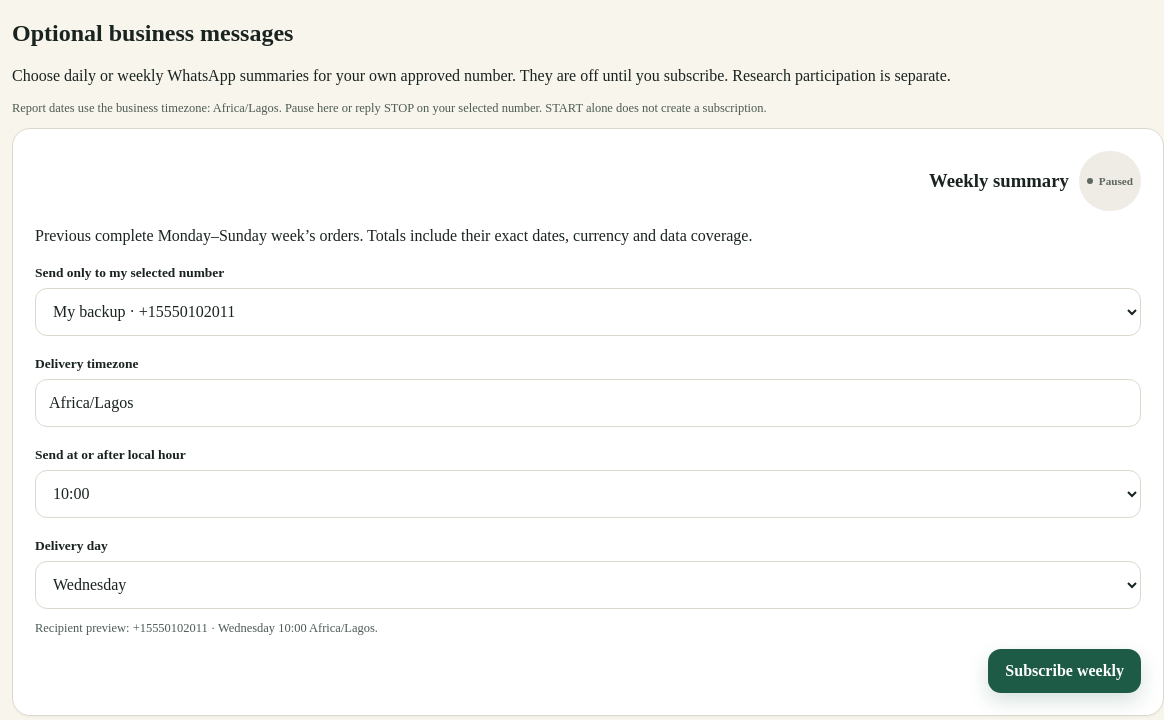
Test: optional business summary settings › leaves paused schedules paused until the user explicitly subscribes again
Click the button "Subscribe weekly" at (1065,671), box left=988, top=649, right=1141, bottom=693
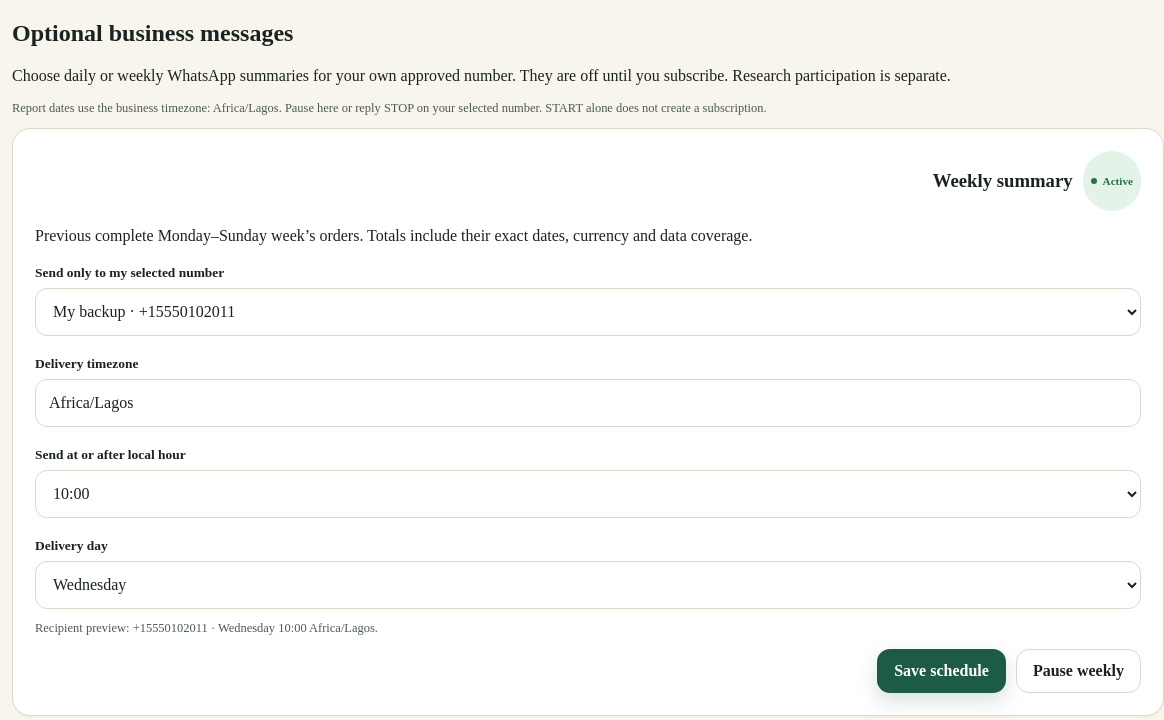
Result: the text "Active" is shown at left=1082, top=151, right=1141, bottom=211
